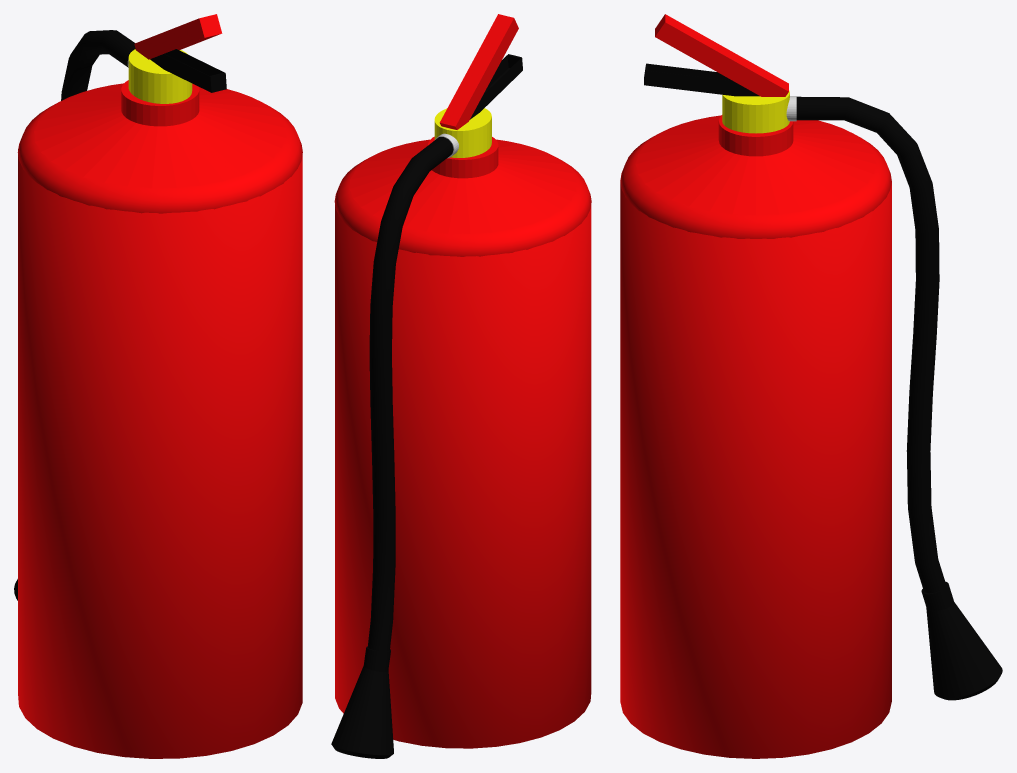
The model's file is Brandslukker.fbx.
3 renders of one model, left to right at view 1: azimuth 30°, elevation 25°; view 2: azimuth 150°, elevation 25°; view 3: azimuth 270°, elevation 25°, orthographic. The views are drawn at different scales.
Parts seen in each view (by area): view 1: Cylinder, Cone, Torus, BezierCurve, Cylinder.002, Cylinder.001, Cube, Cube.001; view 2: Cylinder, Cone, BezierCurve, Torus, Cone.001, Cube, Cylinder.002, Cylinder.001, Cube.001, Cylinder.004; view 3: Cylinder, Cone, BezierCurve, Torus, Cone.001, Cube, Cylinder.002, Cube.001, Cylinder.001.
Part boxes in pixels (bbox=[...]): Cylinder: bbox=[18, 149, 302, 758]; Cone: bbox=[34, 84, 286, 188]; Torus: bbox=[17, 83, 302, 213]; BezierCurve: bbox=[61, 30, 135, 100]; Cylinder.002: bbox=[128, 49, 192, 103]; Cylinder.001: bbox=[121, 80, 199, 126]; Cube: bbox=[134, 14, 222, 59]; Cube.001: bbox=[150, 49, 226, 92]; Cylinder: bbox=[335, 205, 591, 748]; Cone: bbox=[349, 140, 576, 233]; BezierCurve: bbox=[367, 137, 453, 651]; Torus: bbox=[334, 139, 591, 256]; Cone.001: bbox=[331, 666, 393, 758]; Cube: bbox=[439, 14, 518, 129]; Cylinder.002: bbox=[434, 108, 491, 157]; Cylinder.001: bbox=[428, 136, 498, 178]; Cube.001: bbox=[470, 54, 522, 119]; Cylinder.004: bbox=[363, 646, 390, 671]; Cylinder: bbox=[620, 181, 891, 758]; Cone: bbox=[635, 116, 876, 215]; BezierCurve: bbox=[796, 96, 946, 593]; Torus: bbox=[620, 115, 891, 238]; Cone.001: bbox=[926, 602, 1002, 700]; Cube: bbox=[655, 14, 788, 96]; Cylinder.002: bbox=[722, 90, 789, 133]; Cube.001: bbox=[644, 63, 759, 96]; Cylinder.001: bbox=[718, 115, 793, 156].
Bounding box in the file's own units: 138 × 382 × 194.
